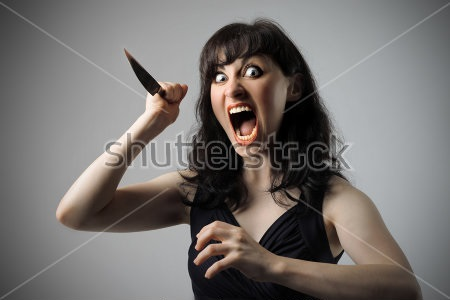knife: (119, 44, 190, 108)
